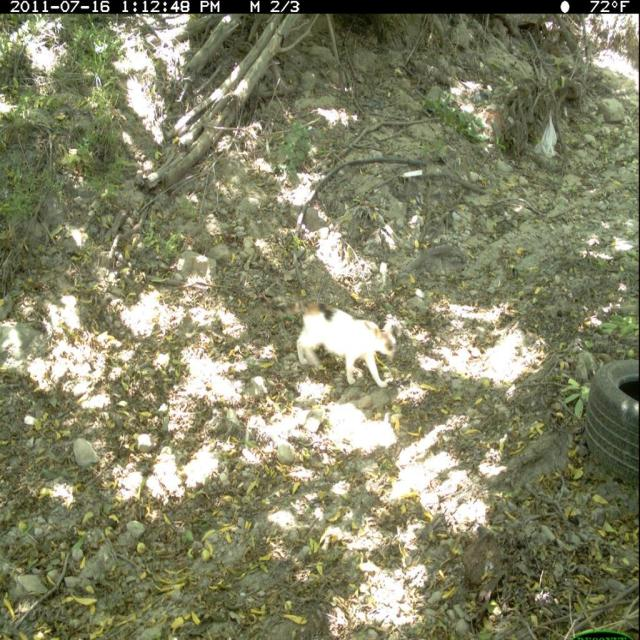cat: (259, 291, 401, 394)
